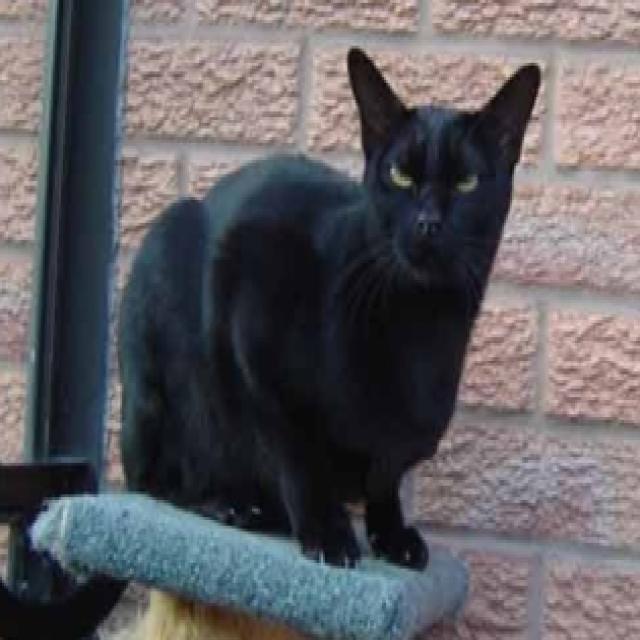Bombay: (115, 44, 548, 575)
